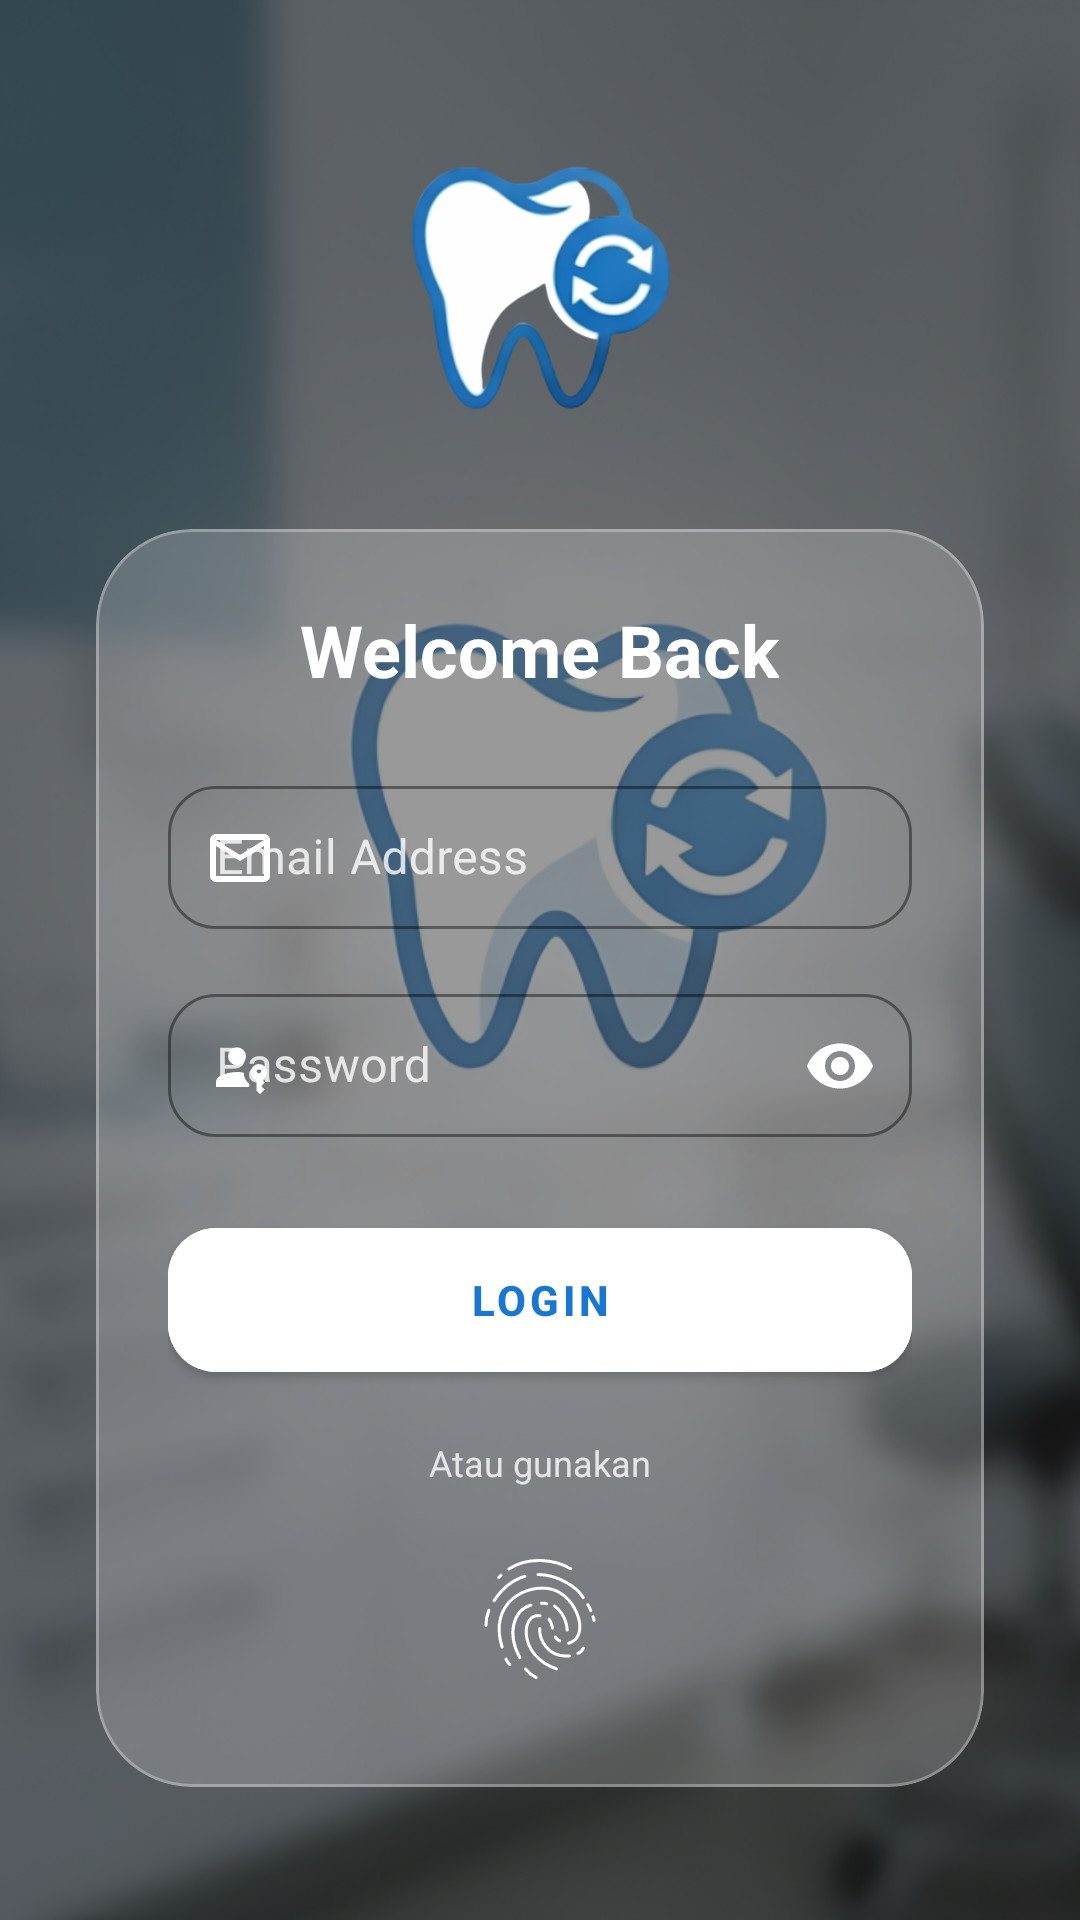

Where icons sit on this 1080*1920 app screen, as {"left": x1, "top": y1, "right": x2, "bottom": y2}:
sidik: {"left": 484, "top": 1559, "right": 596, "bottom": 1679}
